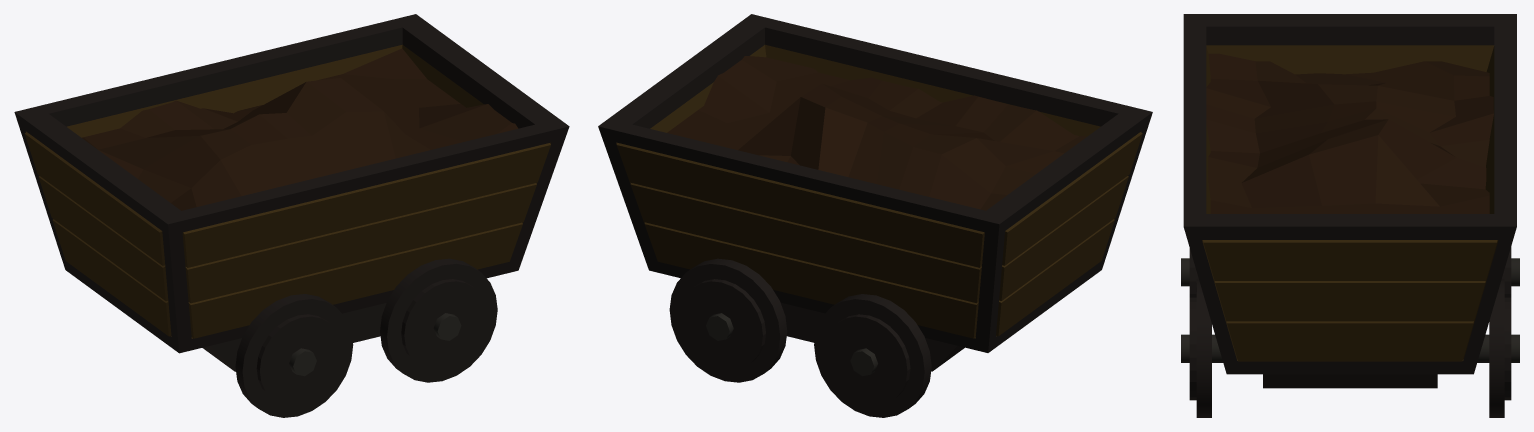
File: Mining_Cart.FBX
The picture shows the model from 3 angles, left to right: view 1: azimuth 30°, elevation 25°; view 2: azimuth 150°, elevation 25°; view 3: azimuth 270°, elevation 25°; orthographic projection. The views are drawn at different scales.
Parts seen in each view (by area): view 1: Mining_Cart, Mining_CartAxelFront, Mining_CartAxelRear; view 2: Mining_Cart, Mining_CartAxelRear, Mining_CartAxelFront; view 3: Mining_Cart, Mining_CartAxelFront, Mining_CartAxelRear.
Boxes of the visible parts, bbox=[...] form: Mining_Cart: bbox=[14, 14, 569, 371]; Mining_CartAxelFront: bbox=[380, 258, 497, 382]; Mining_CartAxelRear: bbox=[235, 294, 353, 417]; Mining_Cart: bbox=[598, 14, 1152, 371]; Mining_CartAxelRear: bbox=[814, 294, 931, 417]; Mining_CartAxelFront: bbox=[669, 258, 787, 382]; Mining_Cart: bbox=[1183, 14, 1516, 388]; Mining_CartAxelFront: bbox=[1181, 279, 1519, 417]; Mining_CartAxelRear: bbox=[1181, 247, 1519, 297].
Bounding box in the file's own units: 3.5 × 2.05 × 2.36.
